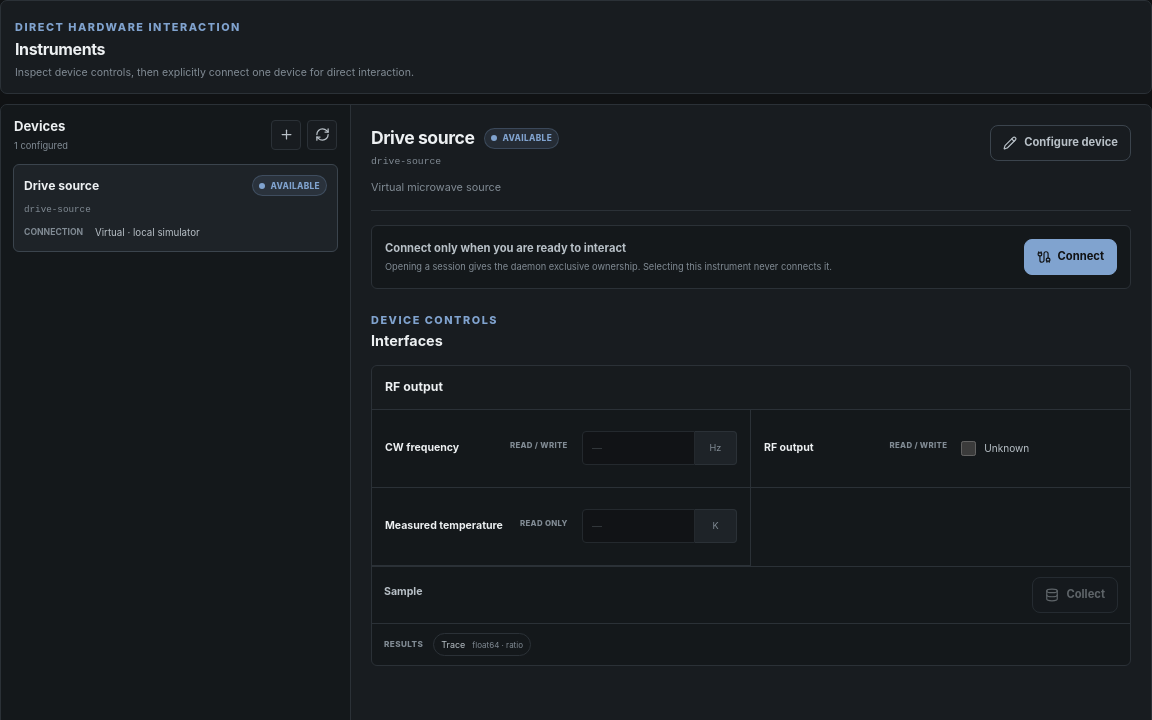
Scenario: instrument workspace › hides configured defaults when the pinned session has none
Expected: the text "Drive source" is shown, [24,177,99,195]
Click the button "Connect": (1070, 257) [1024,239,1117,275]
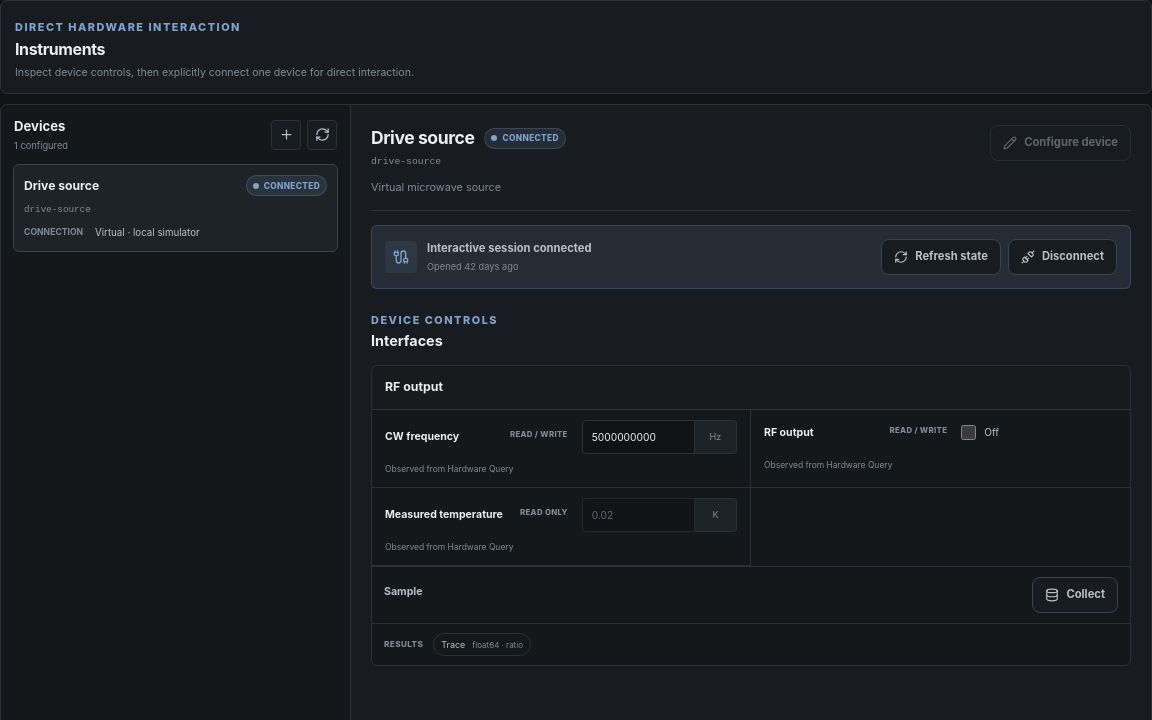
Now the text "Interactive session connected" is shown, box [427,240,592,257]
